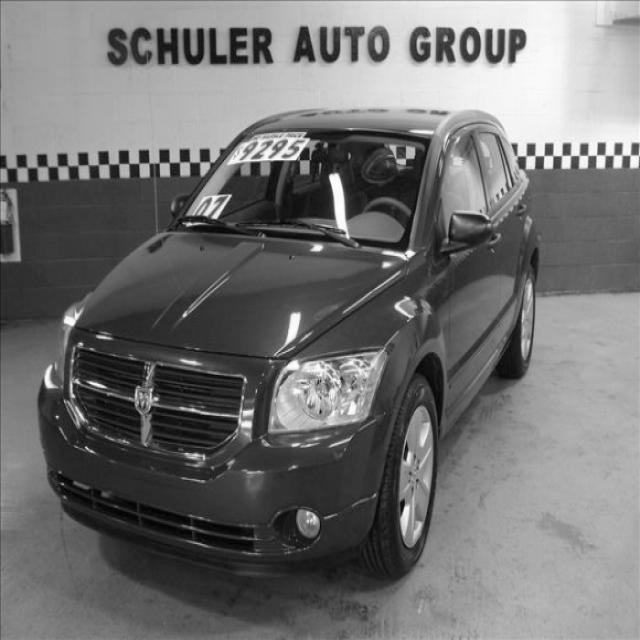car: (37, 105, 540, 582)
